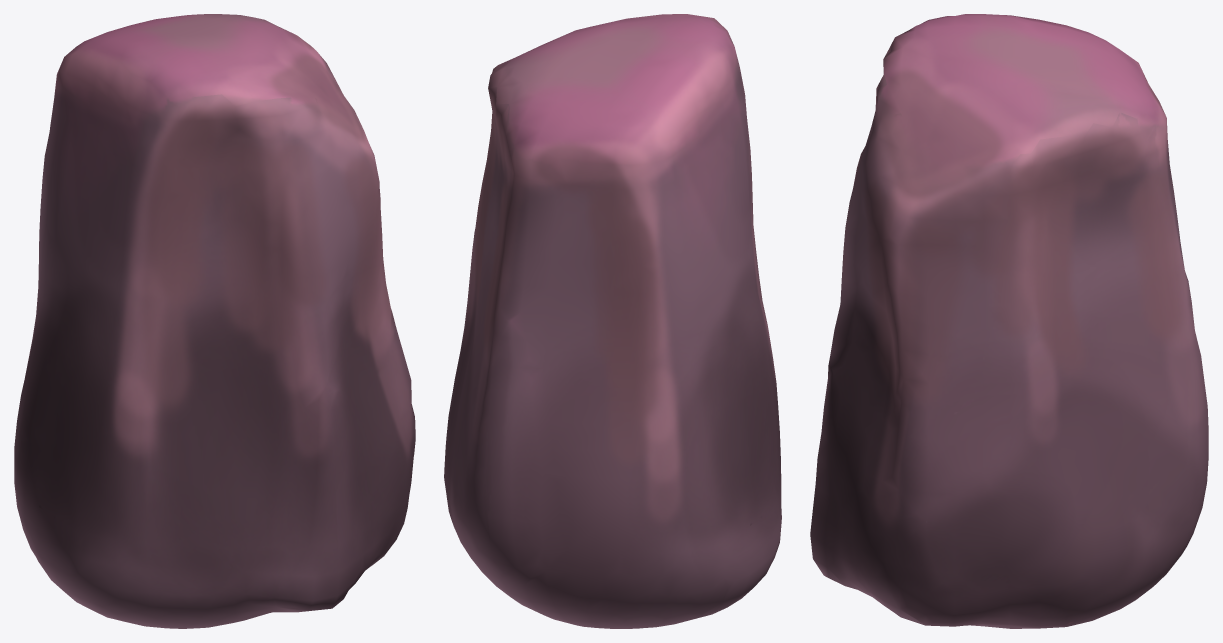
Rendered from small_rock_1.fbx.
3 renders of one model, left to right at view 1: azimuth 30°, elevation 25°; view 2: azimuth 150°, elevation 25°; view 3: azimuth 270°, elevation 25°, orthographic. The views are drawn at different scales.
Parts seen in each view (by area): view 1: rock_1; view 2: rock_1; view 3: rock_1.
Boxes of the visible parts, x1=… form: rock_1: x1=14, y1=14, x2=415, y2=628; rock_1: x1=444, y1=14, x2=781, y2=628; rock_1: x1=810, y1=14, x2=1208, y2=628.
Size of the model in its own units: 1.29 by 2.24 by 1.41.
